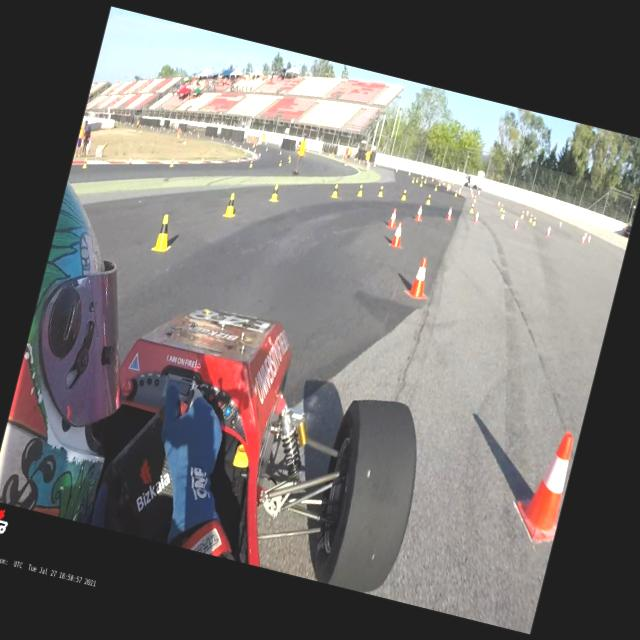orange_cone: (509, 423, 579, 544), (404, 254, 436, 300), (388, 220, 406, 248), (386, 207, 400, 229), (413, 202, 426, 222), (444, 205, 454, 221), (472, 210, 479, 223), (546, 224, 552, 236), (512, 220, 519, 230), (586, 234, 592, 243), (580, 234, 586, 243), (524, 208, 529, 216), (128, 156, 132, 165), (470, 192, 475, 198), (458, 188, 462, 195), (558, 221, 562, 227)
yellow_cone: (150, 212, 179, 256), (222, 191, 240, 219), (268, 182, 282, 203), (413, 202, 426, 222), (330, 182, 341, 198), (355, 182, 365, 198), (376, 185, 386, 198), (399, 188, 408, 201), (424, 192, 432, 205), (82, 157, 90, 169), (468, 202, 476, 213), (499, 208, 506, 220), (526, 214, 534, 224), (518, 209, 526, 219), (168, 158, 176, 168), (532, 216, 538, 226), (496, 200, 502, 208), (418, 179, 424, 187), (410, 176, 416, 183), (499, 203, 504, 211), (472, 194, 477, 202), (433, 184, 438, 192), (453, 190, 458, 198), (249, 160, 254, 168), (278, 158, 283, 166), (414, 176, 419, 183), (423, 177, 427, 184), (430, 176, 434, 182), (288, 158, 292, 164)
